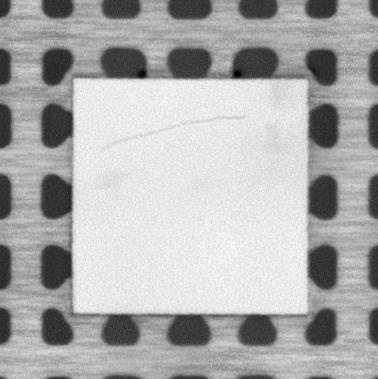DIE_CRACK: (97, 112, 250, 151)
